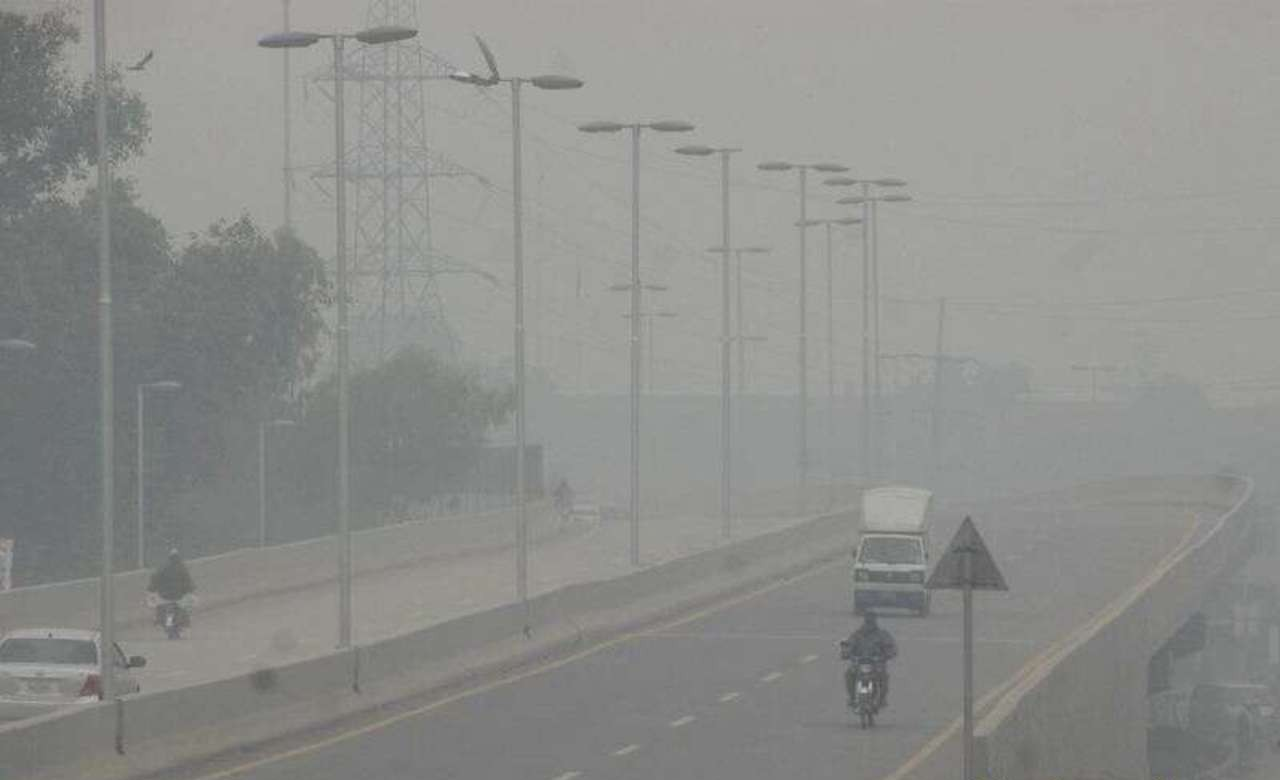car: (848, 482, 933, 613), (0, 630, 134, 707)
motorcycle: (833, 641, 891, 730), (149, 577, 191, 640)
person: (843, 615, 893, 711), (148, 547, 194, 632)
